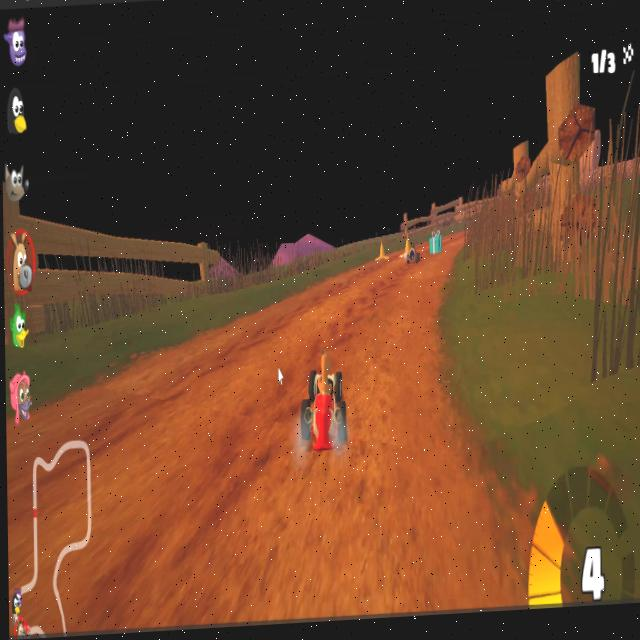bonus: (427, 226, 446, 255)
obstacle: (374, 239, 392, 268), (399, 234, 415, 265)
player_kart: (300, 328, 356, 481)
